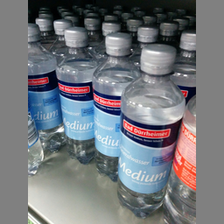water: (120, 44, 186, 218), (91, 32, 138, 180), (55, 25, 94, 163), (28, 23, 62, 159)
